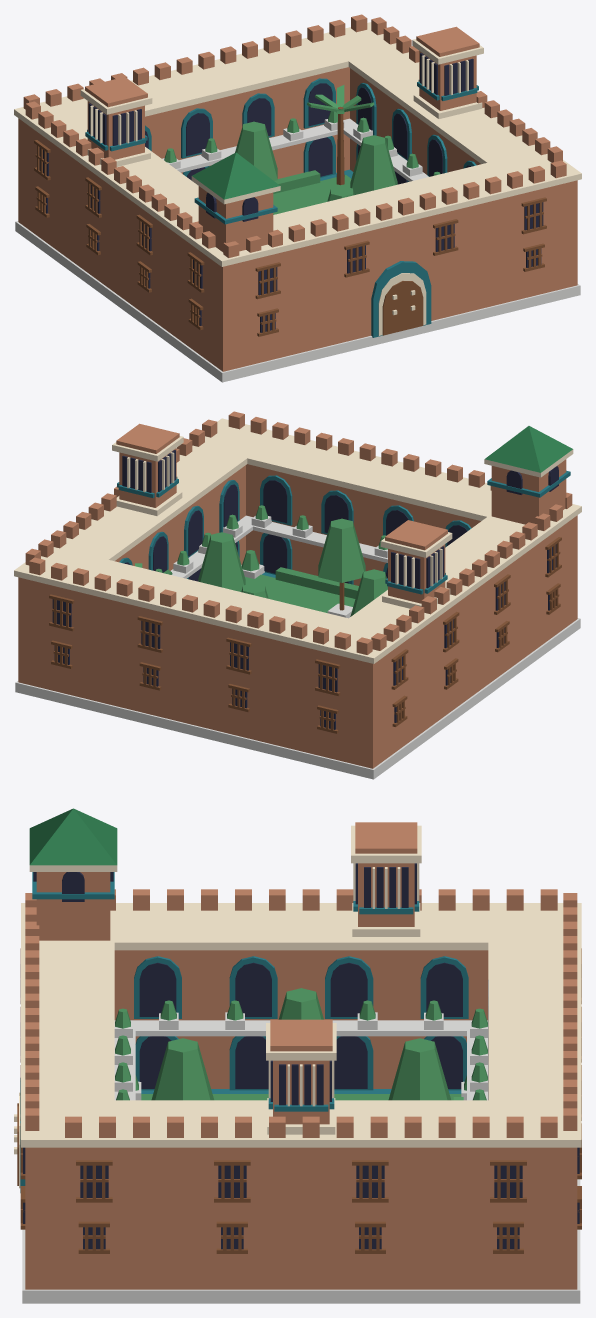
Rendered from house-2x2-2f-riad-a.glb.
3 views of the same model, one above another, from view 1: azimuth 30°, elevation 25°; view 2: azimuth 150°, elevation 25°; view 3: azimuth 270°, elevation 25° (orthographic). The views are drawn at different scales.
Visible parts, largest first — view 1: house-2x2-2f-riad-a; view 2: house-2x2-2f-riad-a; view 3: house-2x2-2f-riad-a.
Boxes of the visible parts, x1=… form: house-2x2-2f-riad-a: x1=14, y1=14, x2=581, y2=382; house-2x2-2f-riad-a: x1=14, y1=411, x2=581, y2=779; house-2x2-2f-riad-a: x1=14, y1=808, x2=581, y2=1303.
Size of the model in its own units: 1.98 by 1.1 by 2.01.
Materials: 1 (1 with a texture image).
